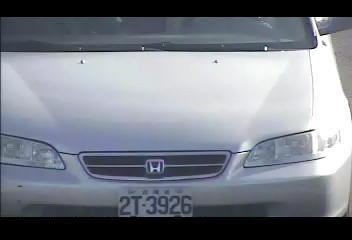plate: (118, 188, 194, 218)
